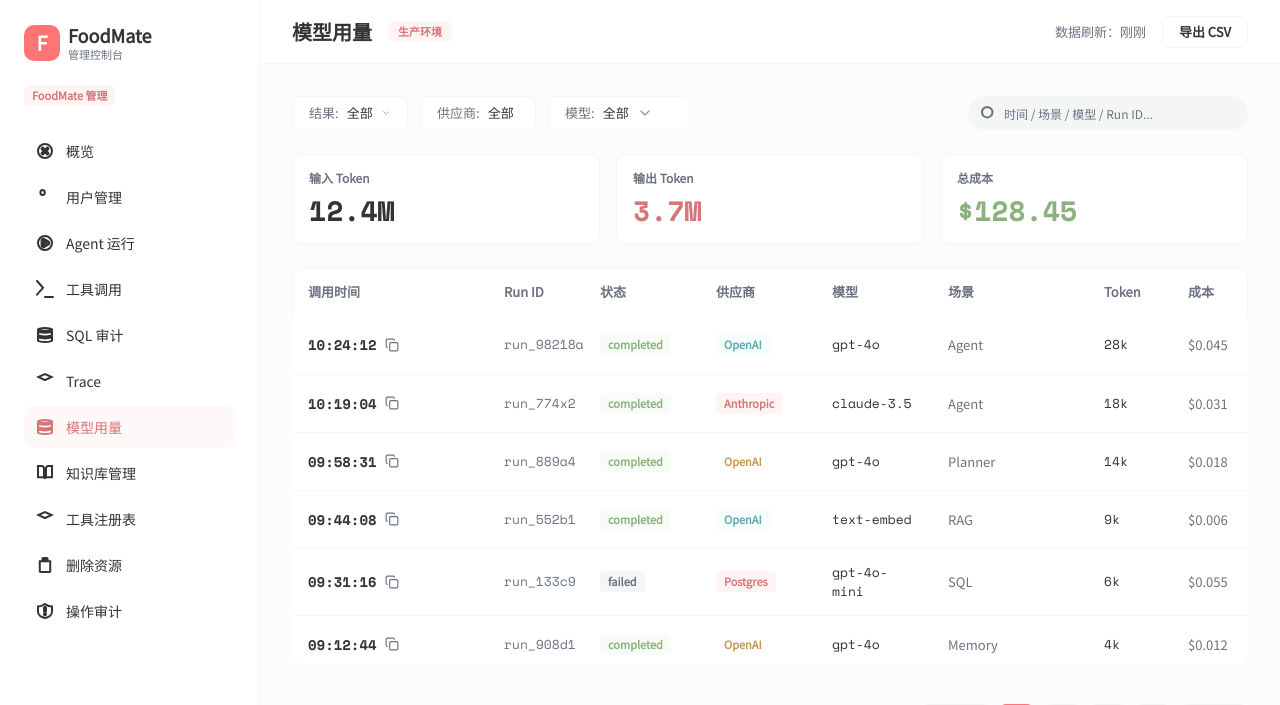
Test: Admin model usage Figma fixture › filters usage rows by result and changes page without losing the Figma table contract
Click the dropdown named "结果筛选".
click(350, 113)  # box [292,96,408,130]
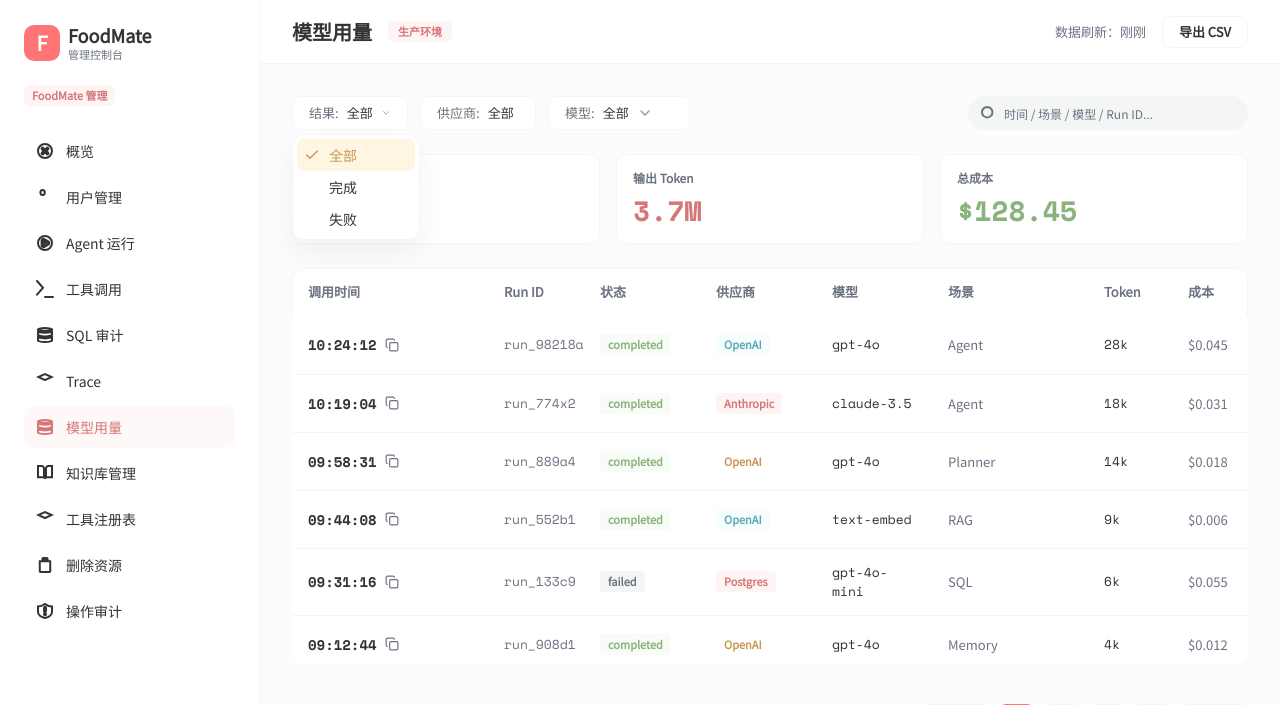
Click the option "失败".
click(343, 219)  # box [329,209,357,229]
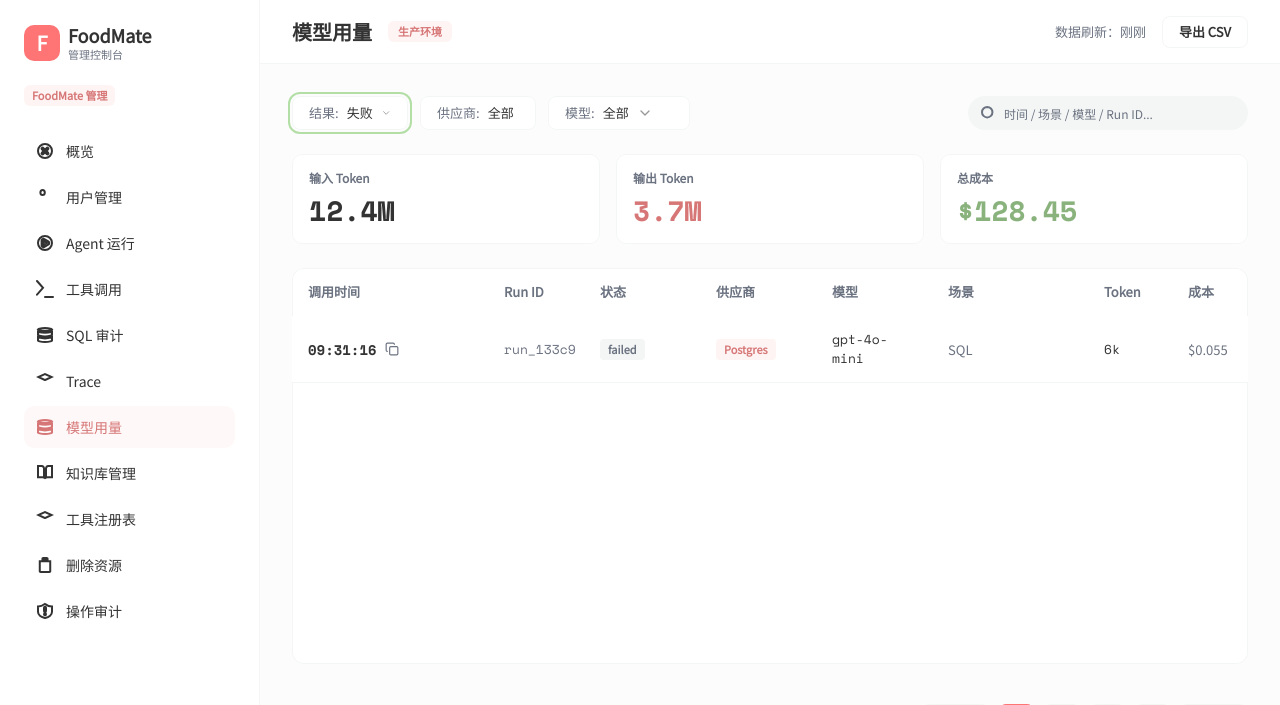
Expected: the text "run_133c9" is shown, [488,316,584,382]
Expected: the text "run_98218a" is gone
Click the dropdown named "结果筛选".
click(350, 113)  # box [292,96,408,130]
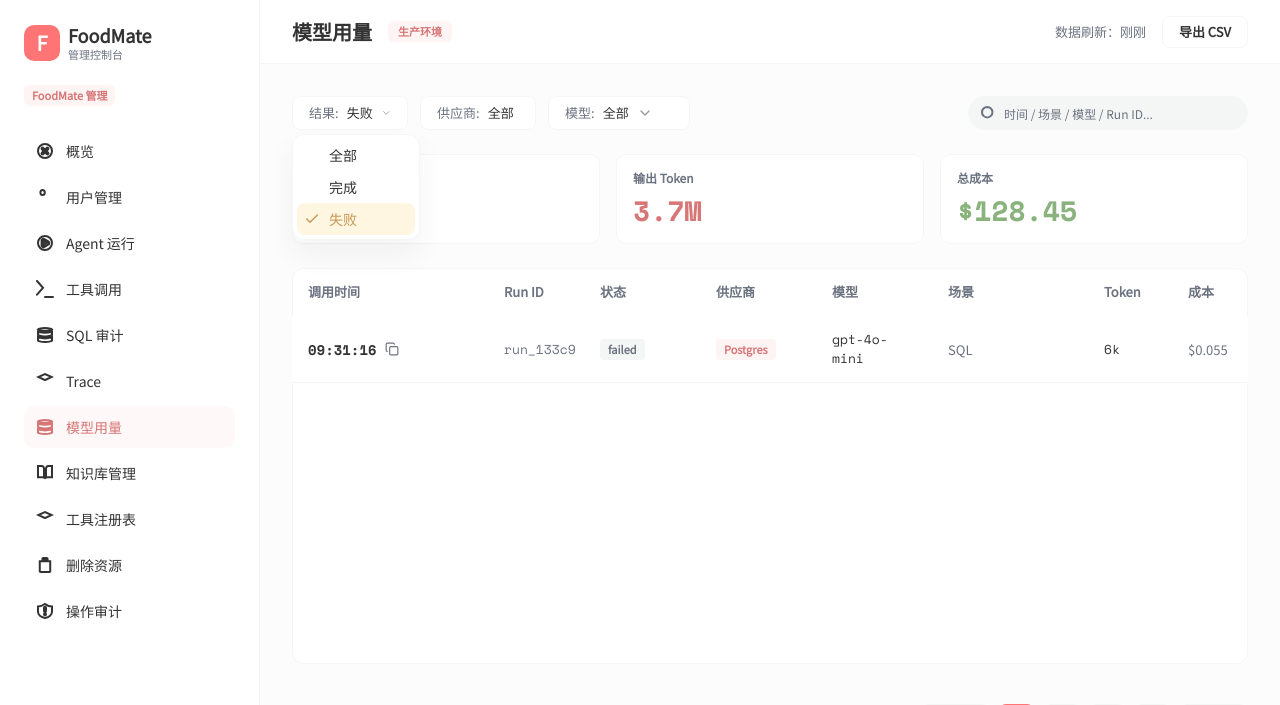
Click the option "全部".
click(343, 155)  # box [329,145,357,165]
(page scrolled)
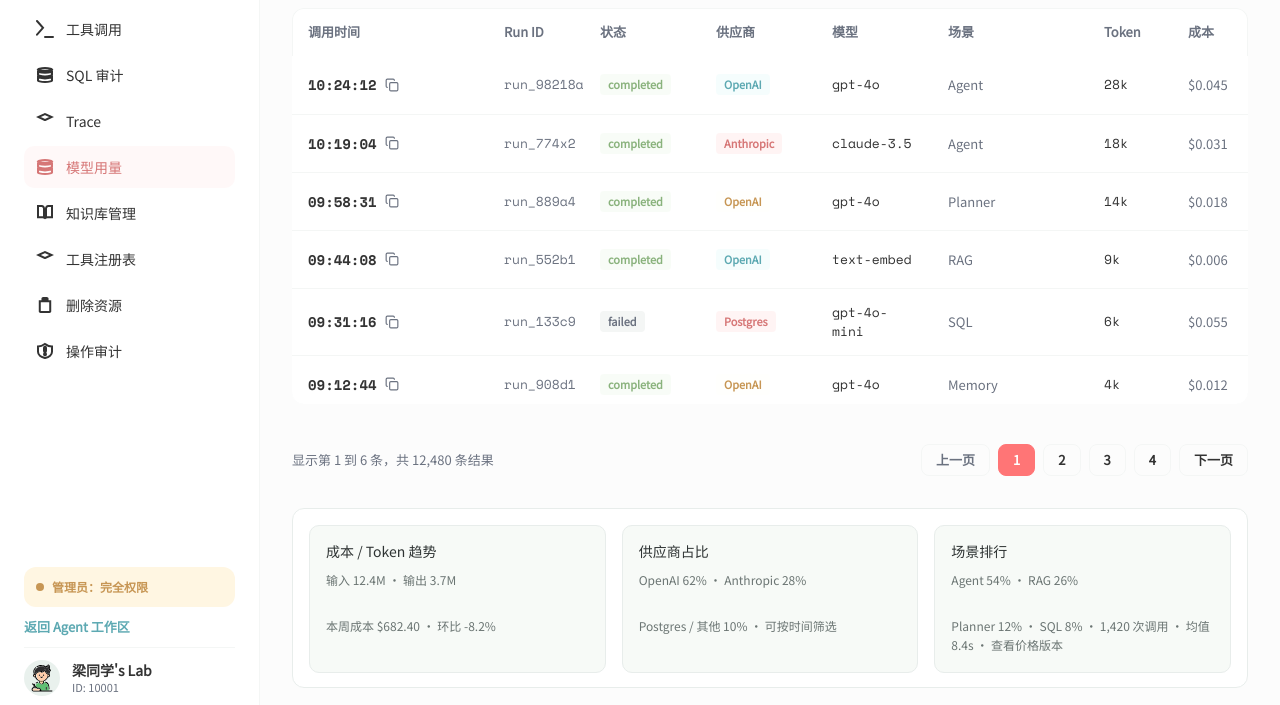
Click the button "下一页".
click(1214, 460)  # box [1179,444,1248,476]
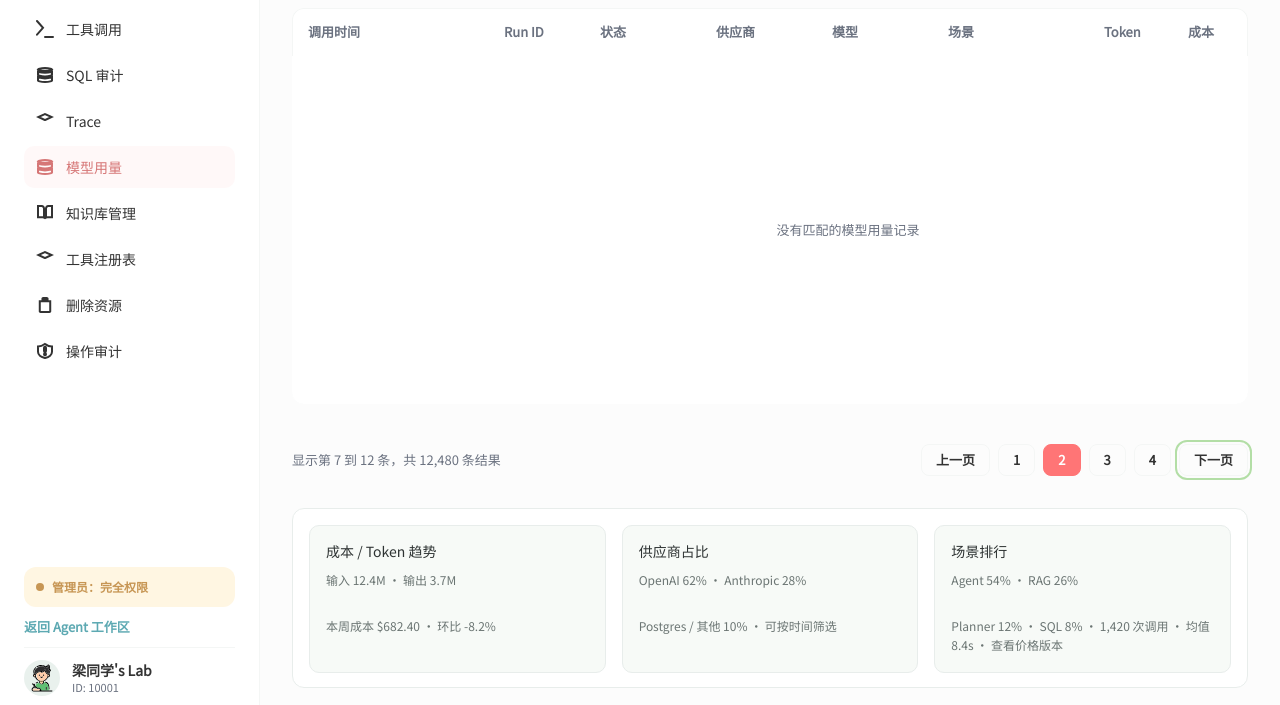
Expected: the text "显示第 7 到 12 条，共 12,480 条结果" is shown, [292,452,501,468]
